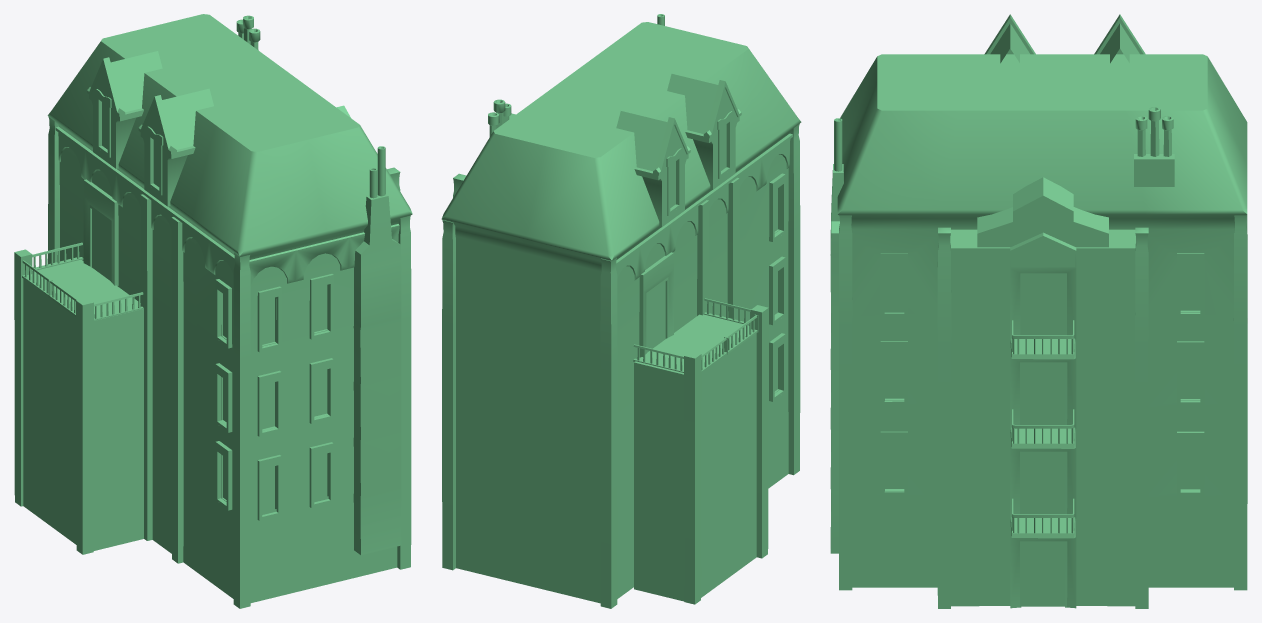
File: Bgr_Building10.fbx
The picture shows the model from 3 angles, left to right: view 1: azimuth 30°, elevation 25°; view 2: azimuth 150°, elevation 25°; view 3: azimuth 270°, elevation 25°; orthographic projection. The views are drawn at different scales.
Visible parts, largest first — view 1: Bgr_Building10; view 2: Bgr_Building10; view 3: Bgr_Building10.
Part boxes in pixels (<box>): Bgr_Building10: <box>14,14,412,608</box>; Bgr_Building10: <box>441,14,801,608</box>; Bgr_Building10: <box>830,14,1247,608</box>.
Size of the model in its own units: 1683 by 2438 by 1901.
